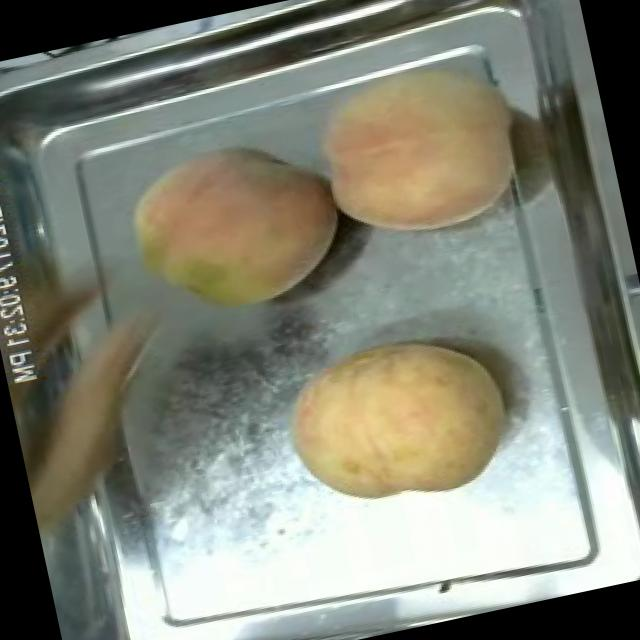Fruit: (286, 28, 542, 264), (104, 117, 360, 340), (268, 311, 524, 528)
